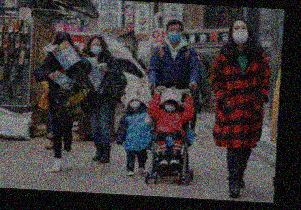with_mask: (231, 23, 249, 45), (166, 26, 182, 43), (89, 41, 102, 54), (128, 96, 141, 109), (164, 101, 175, 112)
